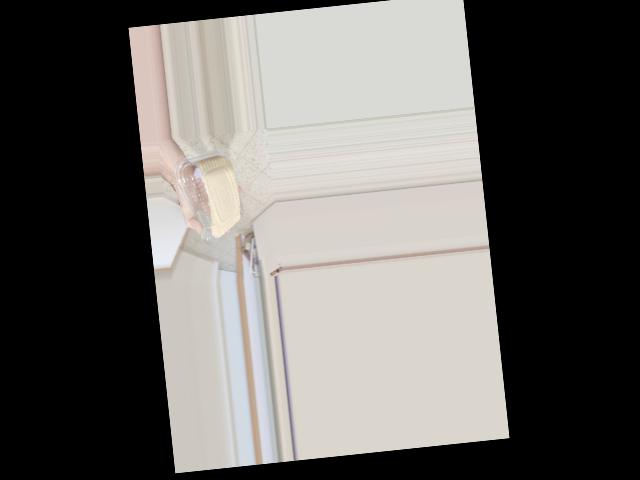cheese: (189, 144, 234, 222)
